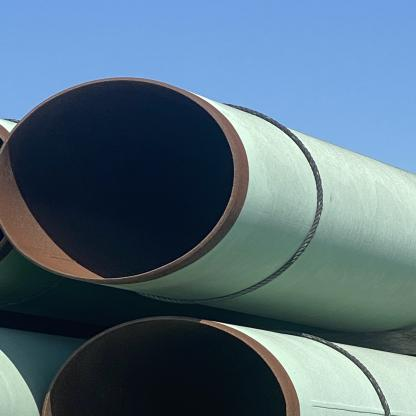clean: (135, 59, 191, 121)
